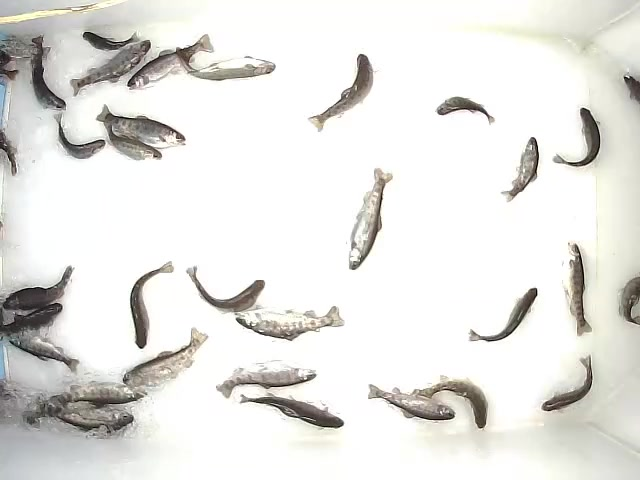fish: (307, 52, 379, 133), (122, 326, 209, 389), (126, 33, 215, 91), (348, 166, 395, 271), (68, 39, 151, 98), (95, 104, 187, 151), (239, 392, 345, 432), (235, 304, 347, 341), (129, 260, 175, 350), (467, 287, 538, 344), (215, 360, 318, 399), (418, 374, 489, 430), (185, 264, 266, 313), (176, 45, 277, 82), (557, 240, 593, 337), (2, 264, 76, 311), (367, 383, 456, 422), (540, 353, 594, 415), (28, 32, 68, 112), (552, 106, 602, 168), (7, 334, 79, 374), (39, 403, 135, 433), (47, 381, 149, 409), (500, 135, 540, 204), (103, 118, 163, 162), (52, 112, 106, 160), (1, 303, 63, 335), (435, 96, 497, 126), (82, 31, 145, 52)
